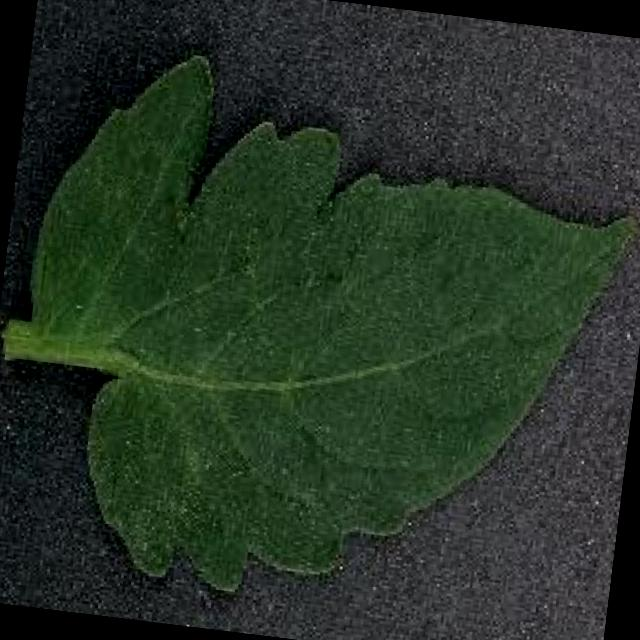healthy: (10, 48, 640, 592)
